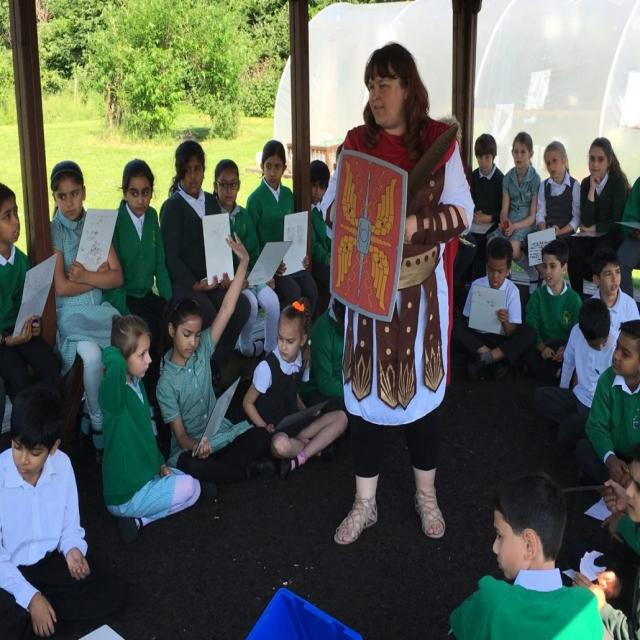body: (323, 39, 476, 546), (152, 228, 274, 501), (0, 382, 107, 639), (442, 474, 608, 639), (42, 159, 132, 454), (155, 136, 251, 394), (95, 312, 203, 538), (242, 293, 348, 483), (108, 156, 176, 409), (0, 180, 64, 424), (212, 158, 281, 358), (532, 300, 621, 453), (245, 140, 318, 325), (570, 450, 640, 640), (574, 320, 640, 486), (451, 233, 525, 378), (484, 130, 542, 298), (524, 238, 584, 366), (309, 280, 370, 400), (463, 132, 506, 292), (534, 139, 582, 239), (580, 138, 624, 232), (599, 478, 640, 558), (308, 158, 332, 289), (620, 168, 640, 300), (585, 253, 630, 310), (332, 143, 345, 171)
